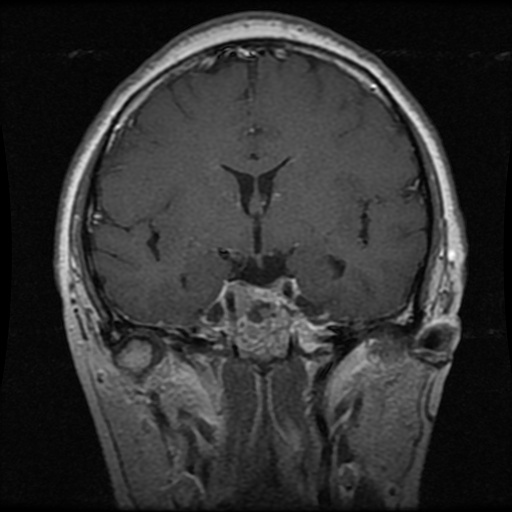pituitary: (234, 282, 283, 308)
